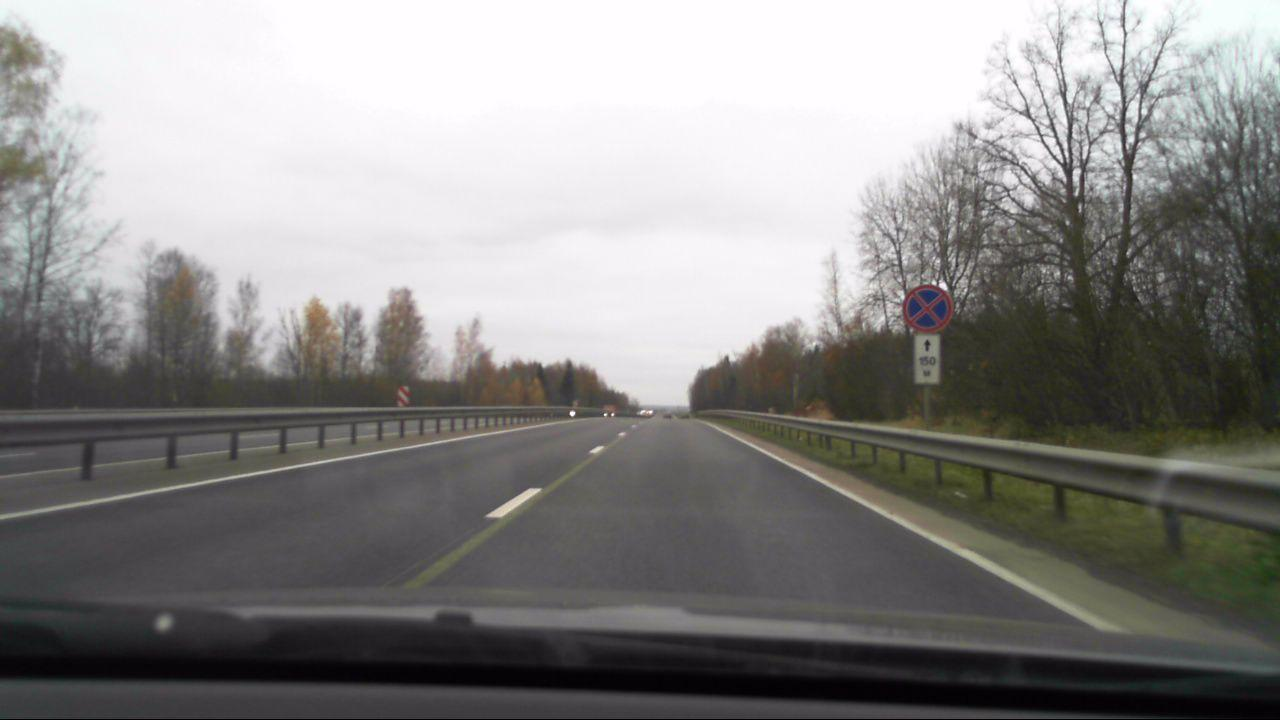3_27: (904, 280, 952, 333)
8_22_1: (398, 381, 414, 410)
8_2_2: (912, 332, 942, 384)
